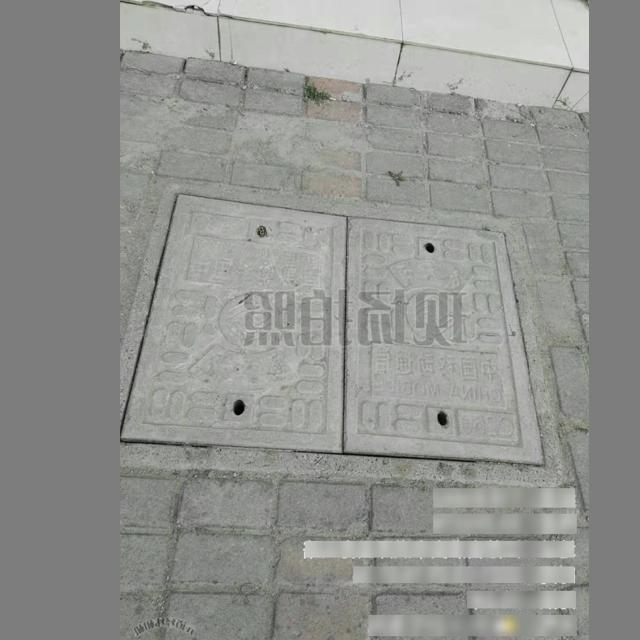good: (120, 184, 550, 484)
